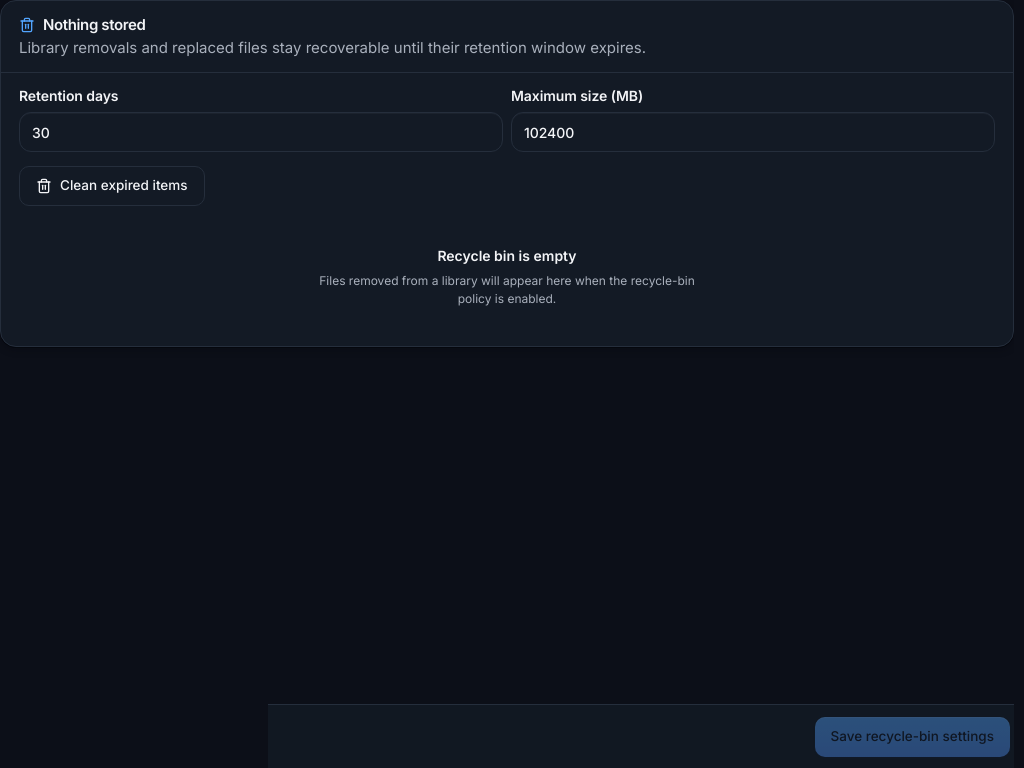
Test case: Recycle bin: the days kept and emptying what has expired › saves the days kept with a PUT of both numbers and says the settings were saved
The image size is (1024, 768).
Replace the text in the number field showing "30" with "45". click: [261, 132]
box: [19,112,503,152]
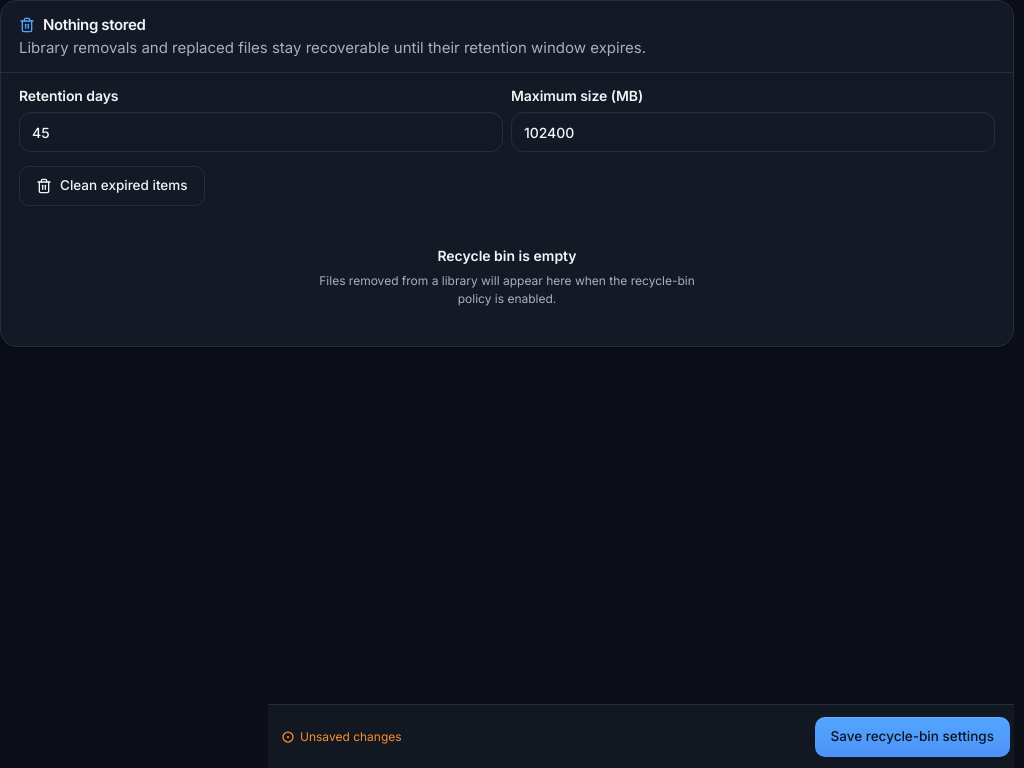
Click the button "Save recycle-bin settings". click: [912, 736]
box: [814,716,1010,756]
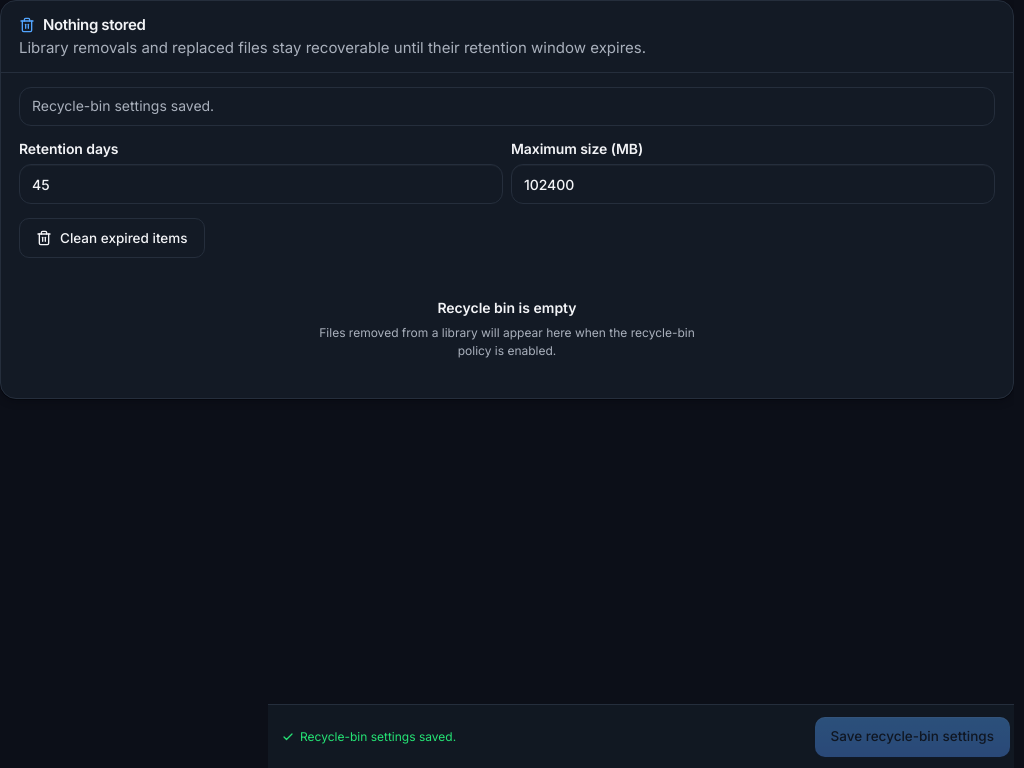
Check: the text "Recycle-bin settings saved." below "Nothing stored" is shown, box [32,97,214,114]
